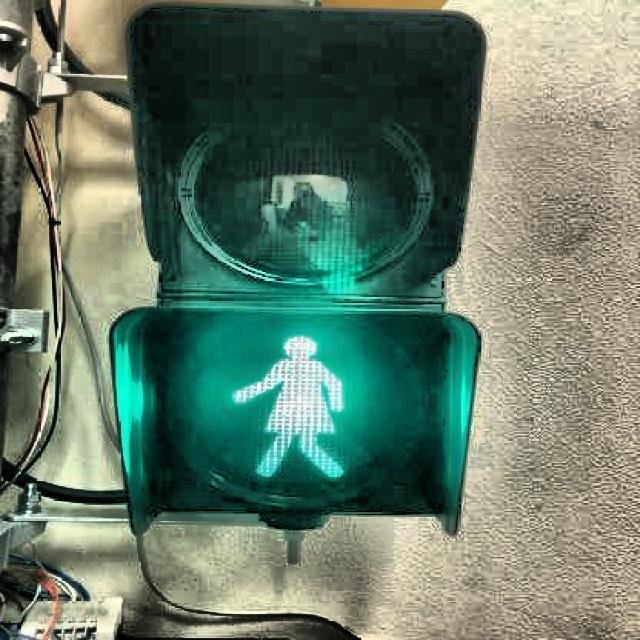semaforo pedestre: (85, 0, 503, 575)
